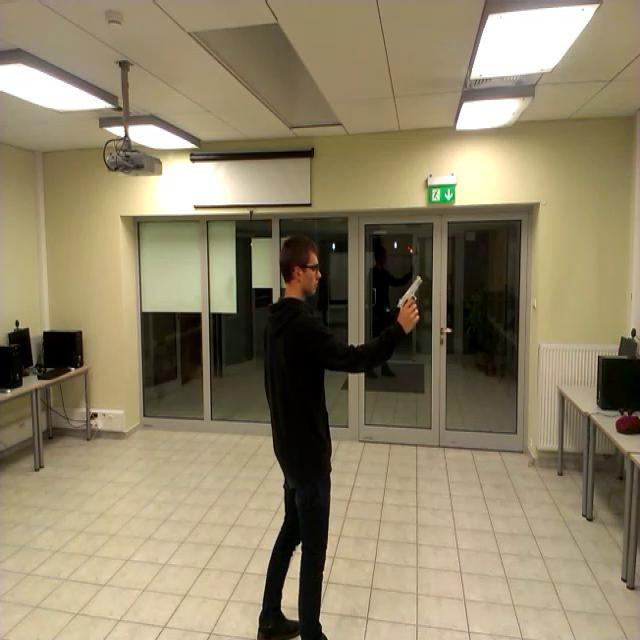Gun: (396, 274, 422, 320)
